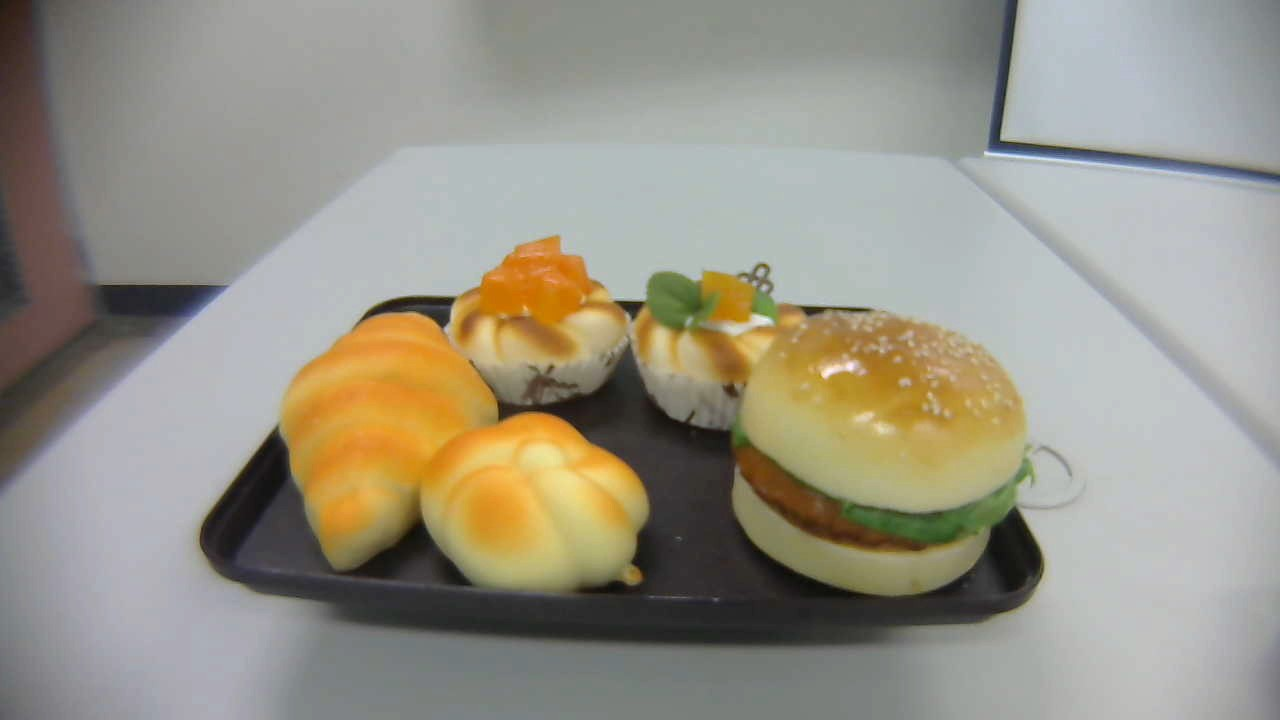croissant: (279, 310, 498, 573)
fruit tart: (631, 263, 809, 431)
hamburger: (732, 308, 1037, 597)
mango tart: (443, 236, 631, 409)
twist bread: (419, 410, 650, 591)
